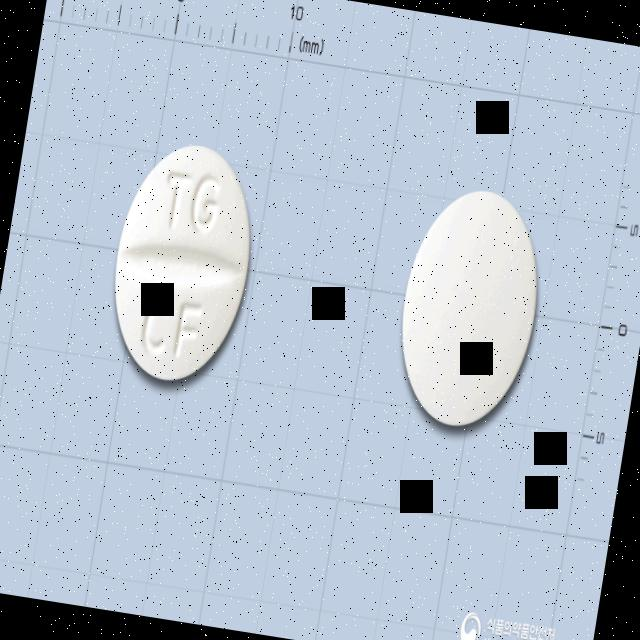Taiguk Ciprofloxacin HCl Tab: (99, 136, 266, 393)
